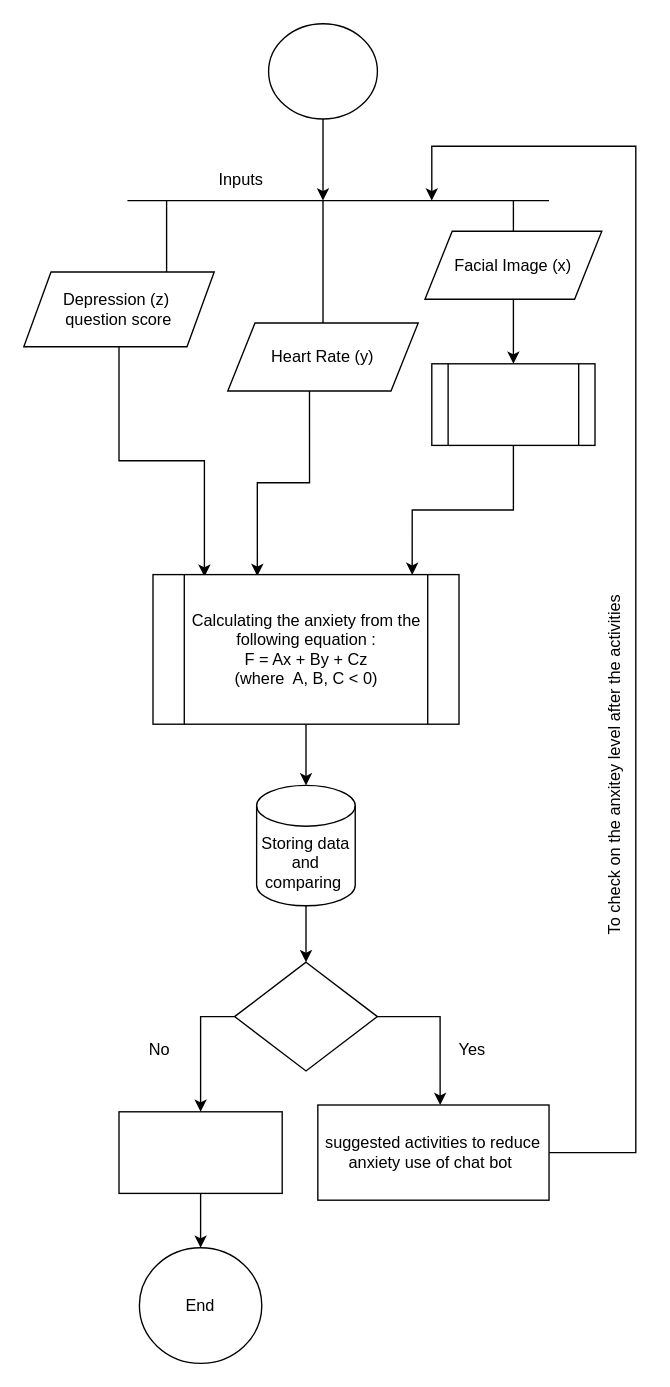
The diagram is 670 pixels wide and 1387 high, and some of its shapes have lost their labels. The centre of each missing label's shape, as x and y in pixels:
Converting facial expression into numerical value: (x=512, y=403)
F > anxiety level: (x=305, y=1016)
No anxiety: (x=200, y=1151)
Start: (x=322, y=70)
